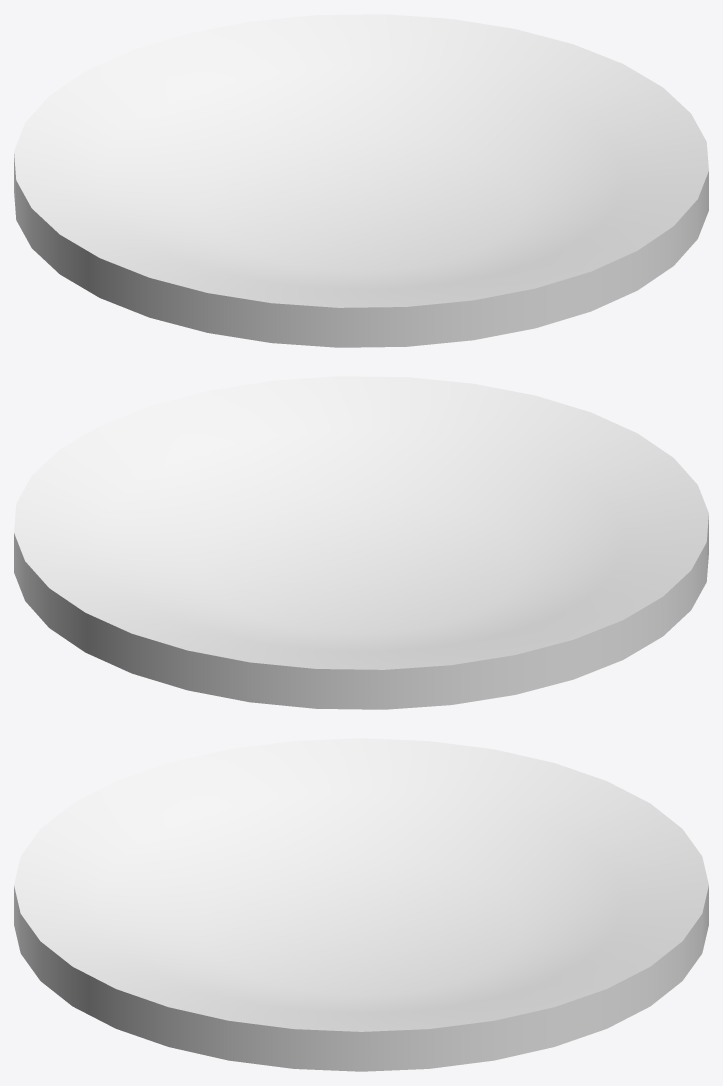
The model's file is Plate.fbx.
The picture shows the model from 3 angles, top to bottom: view 1: azimuth 30°, elevation 25°; view 2: azimuth 150°, elevation 25°; view 3: azimuth 270°, elevation 25°; orthographic projection.
Visible parts, largest first — view 1: Plate; view 2: Plate; view 3: Plate.
Part boxes in pixels (x1,y1,x2,y2): Plate: (14, 14, 708, 347); Plate: (14, 376, 708, 709); Plate: (14, 738, 708, 1071).
Bounding box in the file's own units: 33.31 × 3.49 × 33.31.
